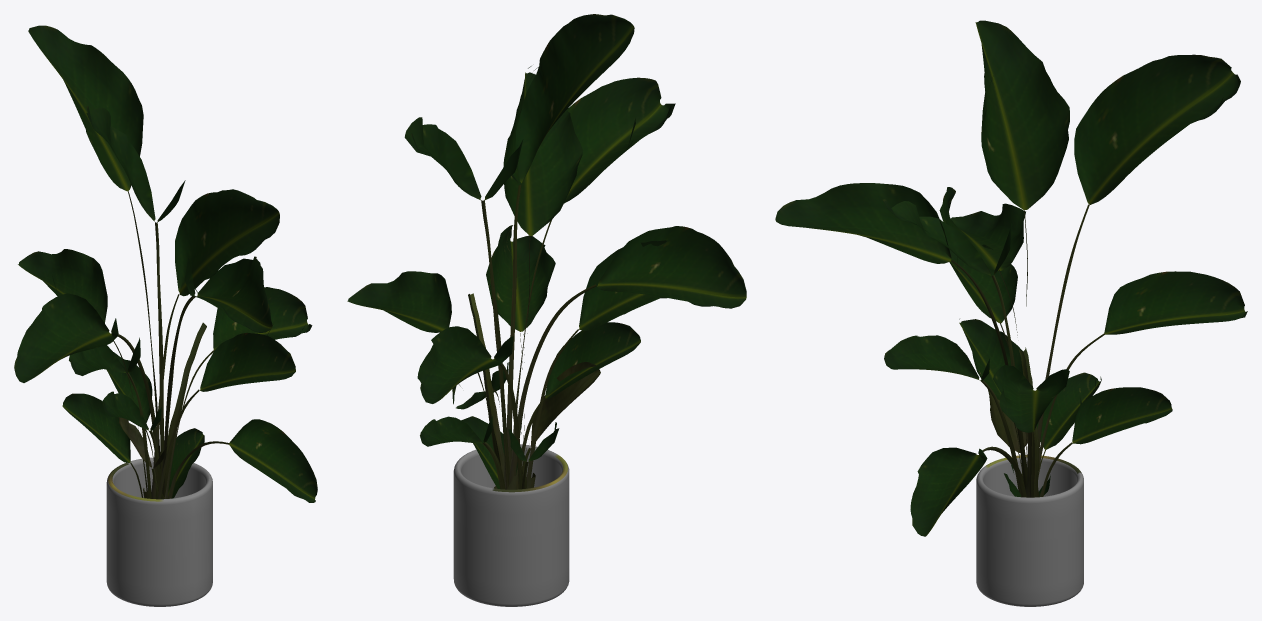
Rendered from Vase1.fbx.
3 renders of one model, left to right at view 1: azimuth 30°, elevation 25°; view 2: azimuth 150°, elevation 25°; view 3: azimuth 270°, elevation 25°, orthographic. The views are drawn at different scales.
Visible parts, largest first — view 1: Vase1; view 2: Vase1; view 3: Vase1.
Boxes of the visible parts, x1=… form: Vase1: x1=14, y1=25, x2=317, y2=606; Vase1: x1=347, y1=14, x2=746, y2=606; Vase1: x1=775, y1=20, x2=1247, y2=606.
Bounding box in the file's own units: 0.6676 × 1.03 × 0.8233.
